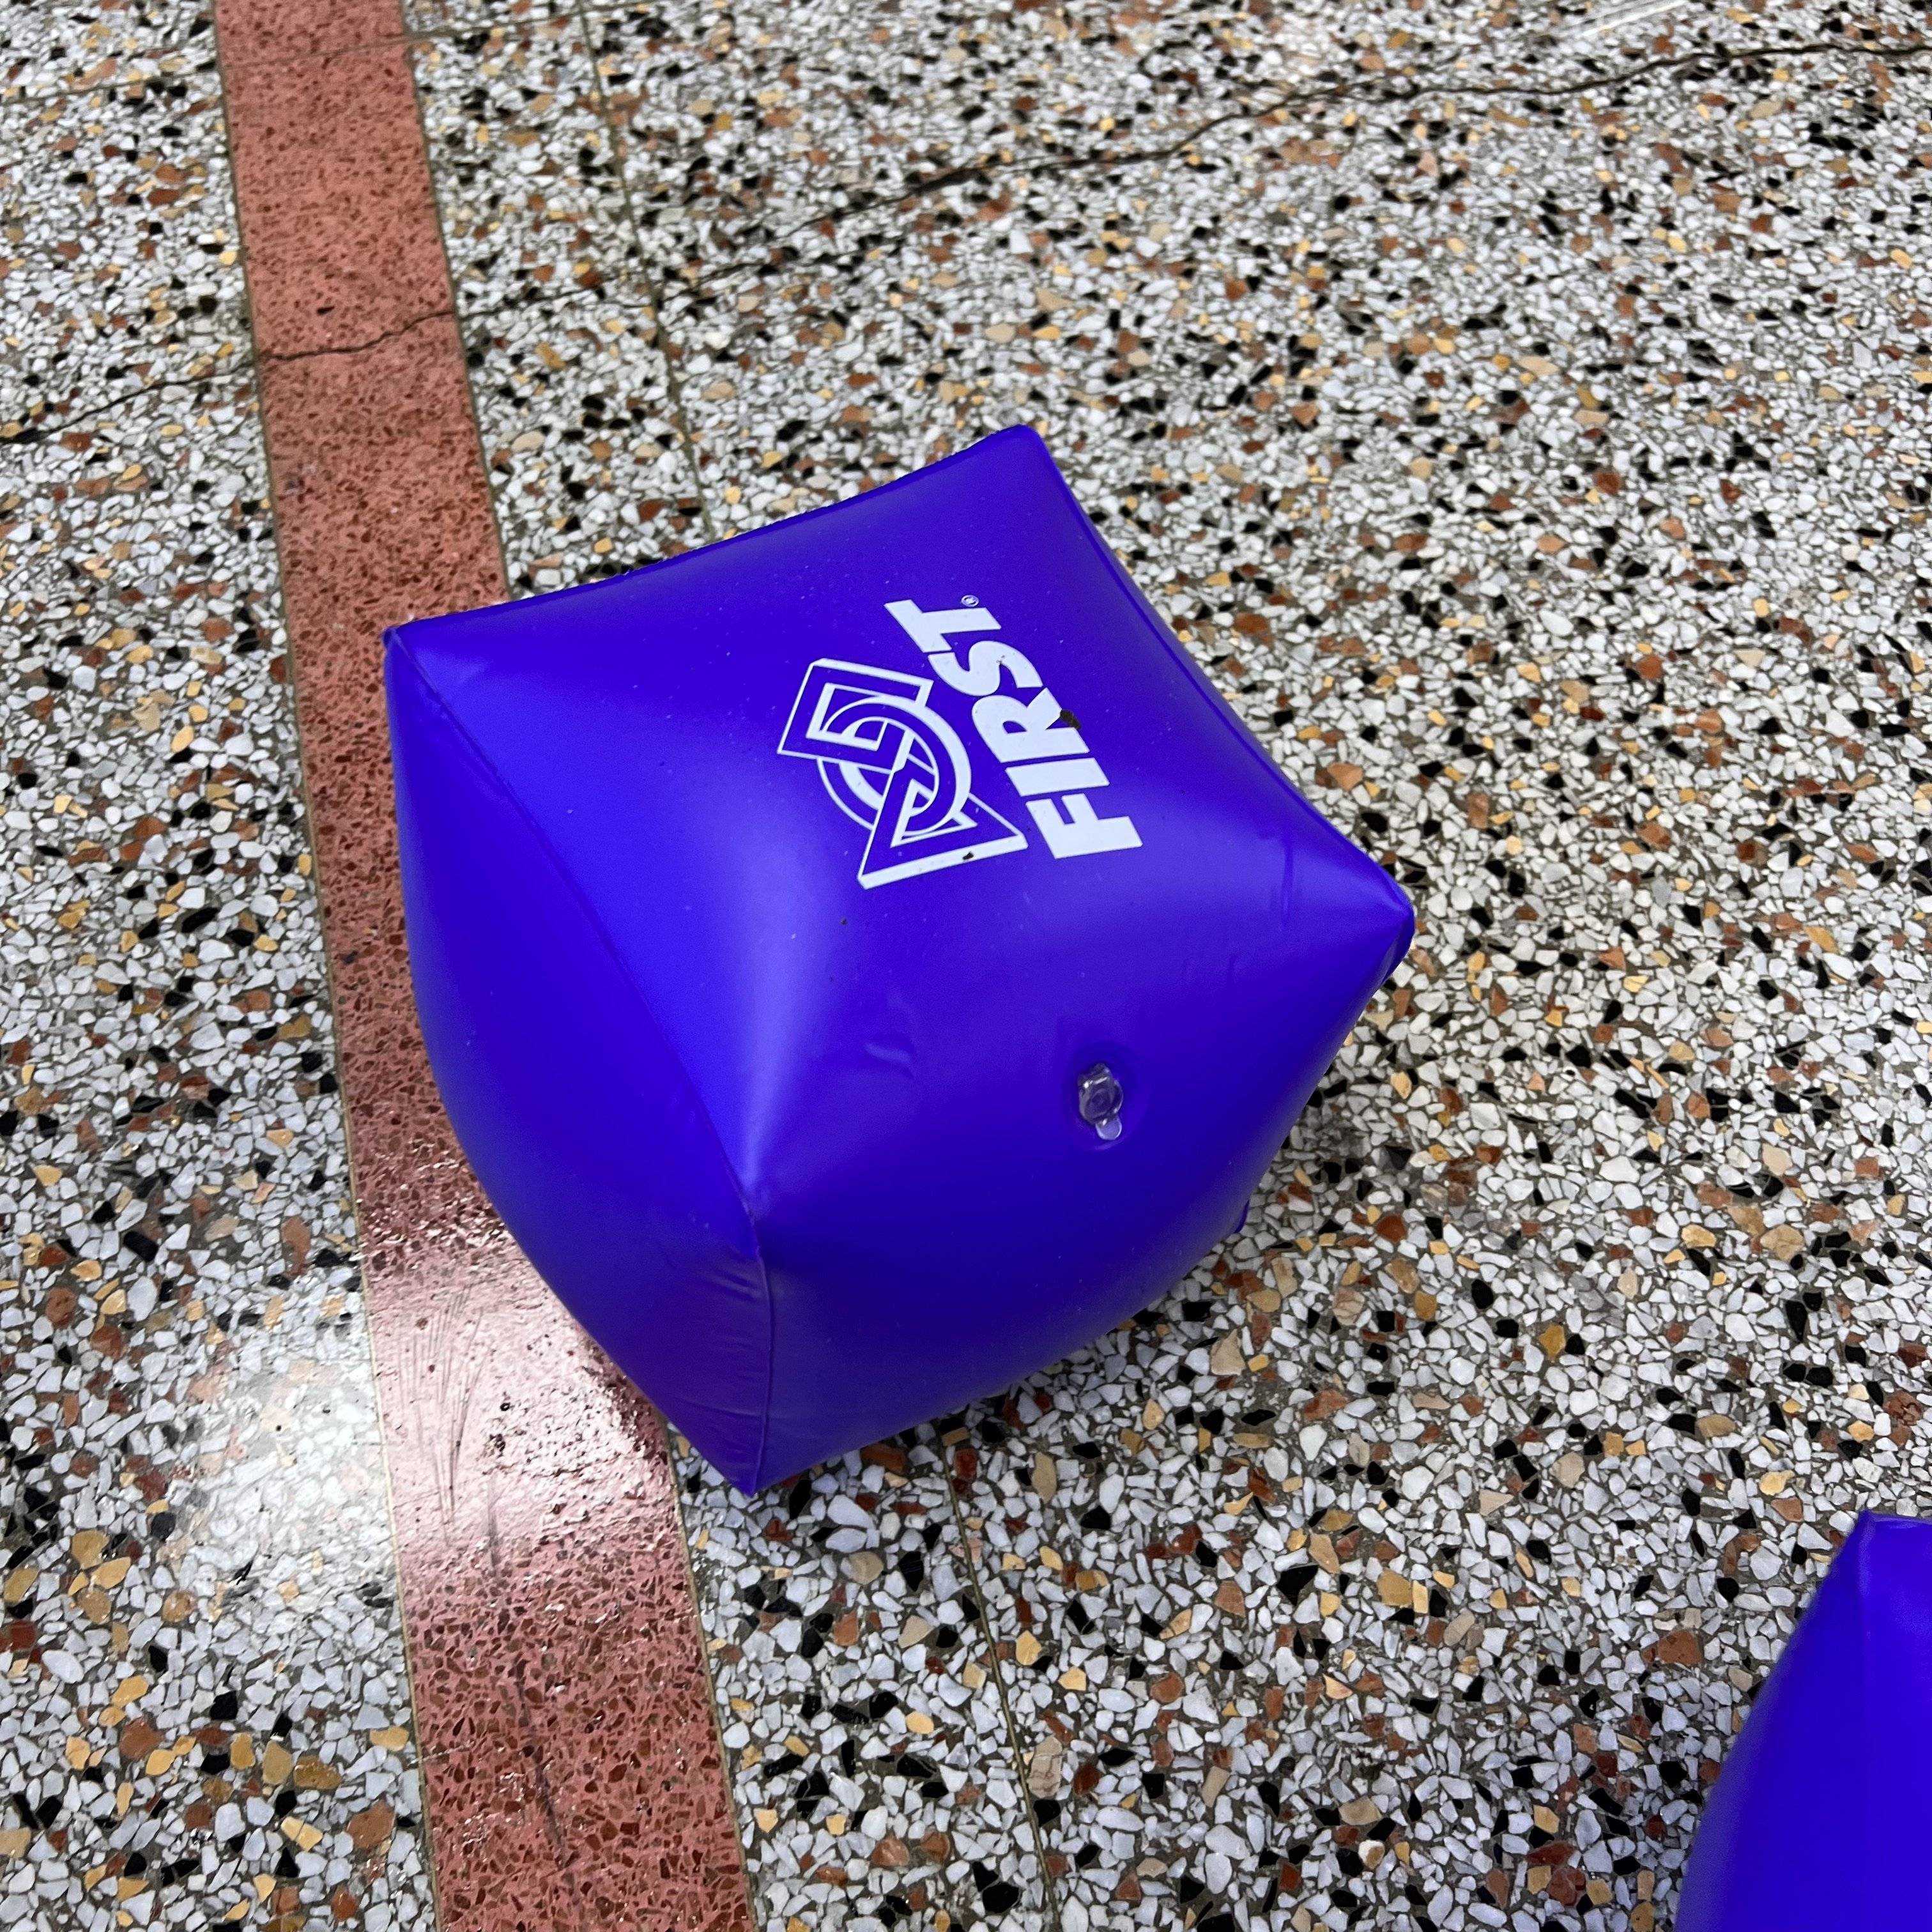cube: (384, 430, 1415, 1491), (1672, 1509, 1932, 1932)
